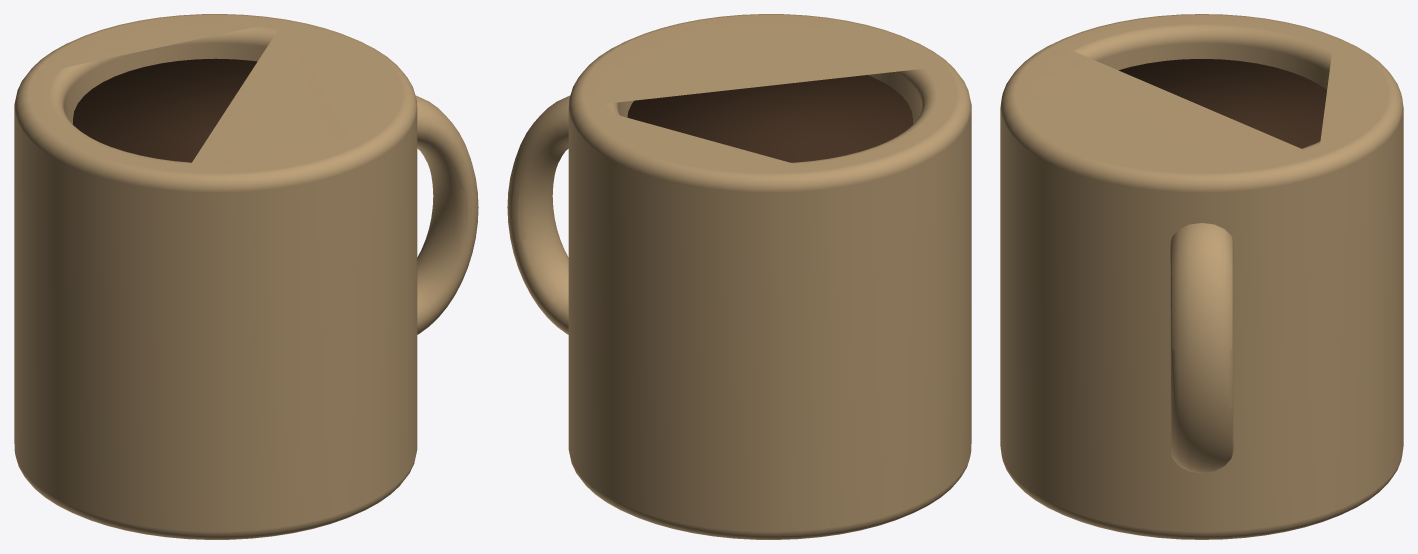
The model's file is PortalCoffeeMug.fbx.
The picture shows the model from 3 angles, left to right: view 1: azimuth 30°, elevation 25°; view 2: azimuth 150°, elevation 25°; view 3: azimuth 270°, elevation 25°; orthographic projection.
Parts seen in each view (by area): view 1: Mug_Outer, Coffee_Surface, Mug_Handle; view 2: Mug_Outer, Coffee_Surface, Mug_Handle; view 3: Mug_Outer, Mug_Handle, Coffee_Surface.
Part boxes in pixels (x1,y1,x2,y2): Mug_Outer: (14,14,417,539); Coffee_Surface: (73,58,257,162); Mug_Handle: (416,95,478,334); Mug_Outer: (568,14,971,539); Coffee_Surface: (627,75,912,162); Mug_Handle: (507,95,569,334); Mug_Outer: (1000,14,1403,539); Mug_Handle: (1170,223,1233,473); Coffee_Surface: (1119,59,1326,148).
Bounding box in the file's own units: 27.13 × 22 × 22.
